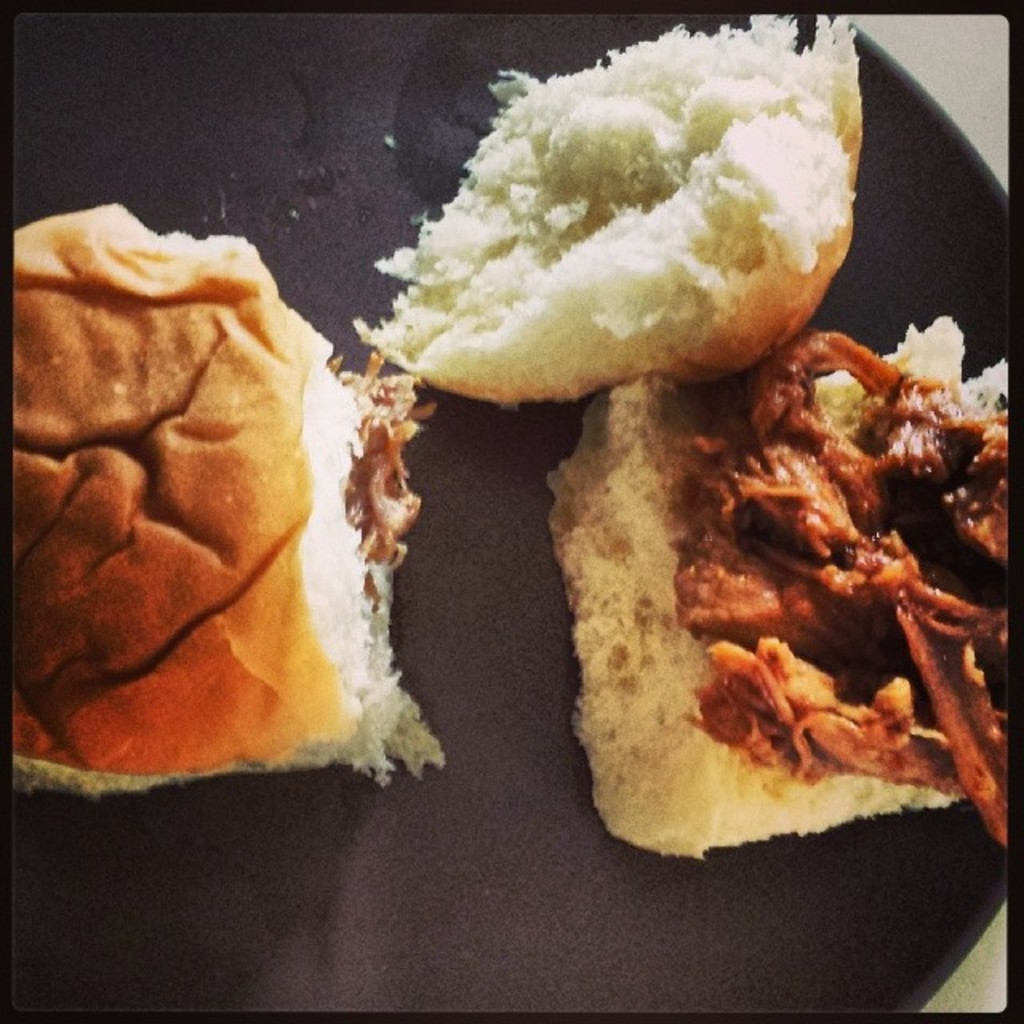sandwich: (10, 198, 442, 810), (547, 314, 1011, 866), (349, 13, 864, 403)
